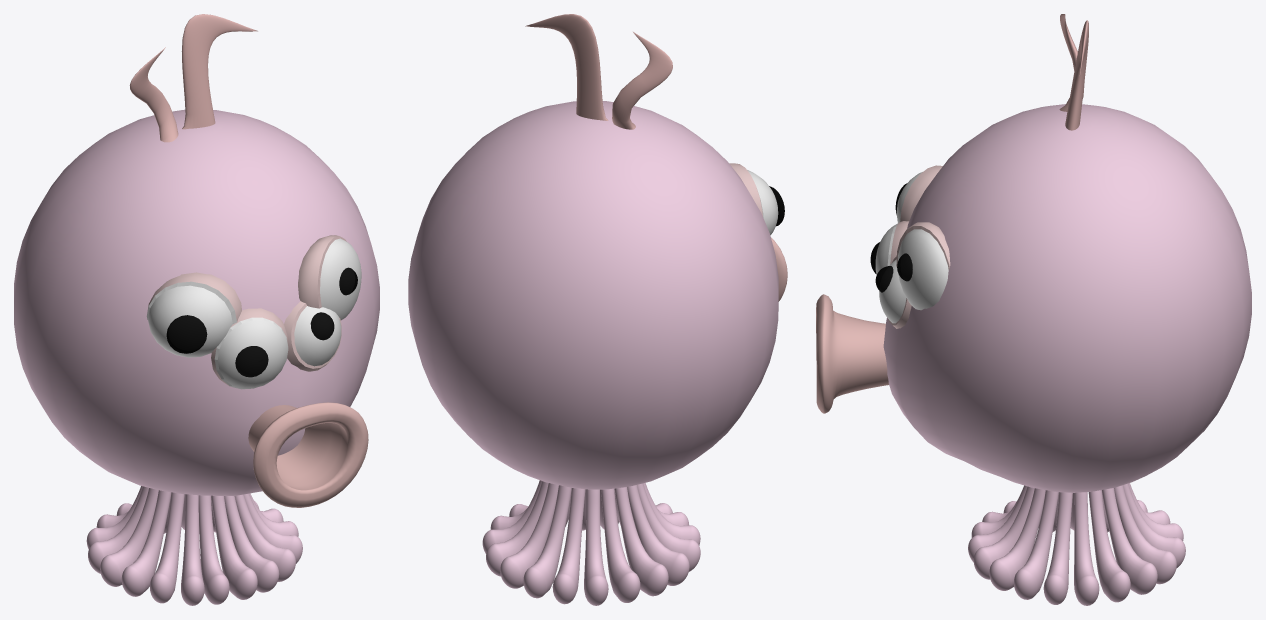
Rendered from Dried glucose syrup.fbx.
The picture shows the model from 3 angles, left to right: view 1: azimuth 30°, elevation 25°; view 2: azimuth 150°, elevation 25°; view 3: azimuth 270°, elevation 25°; orthographic projection.
Visible parts, largest first — view 1: pSphere30; view 2: pSphere30; view 3: pSphere30.
Part boxes in pixels (x1,y1,x2,y2): pSphere30: (14, 14, 379, 605); pSphere30: (408, 14, 787, 605); pSphere30: (816, 14, 1251, 605).
Bounding box in the file's own units: 2.9 × 4.73 × 3.4.
